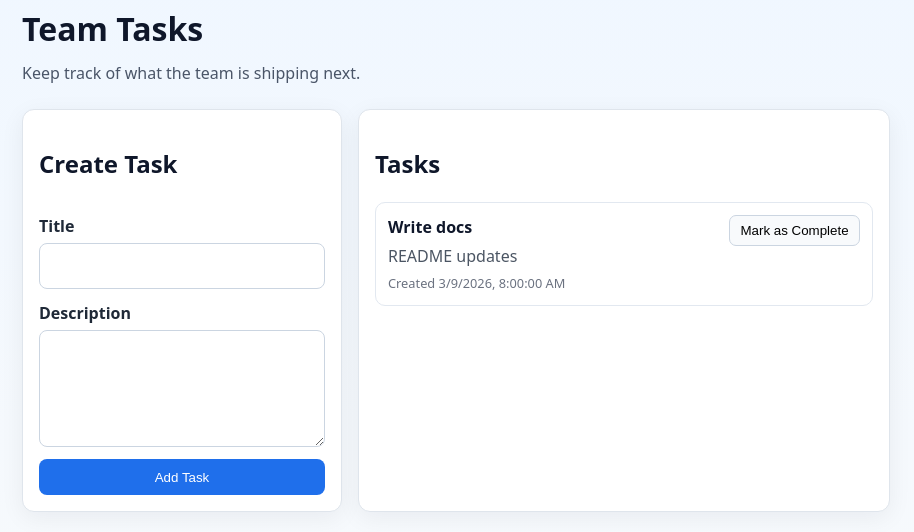
Test case: App › toggles completion status
Expected: the heading "Write docs" is shown, left=388, top=216, right=472, bottom=238
Step 1. Click the button "Mark as Complete" → [795, 230], box left=729, top=215, right=860, bottom=246
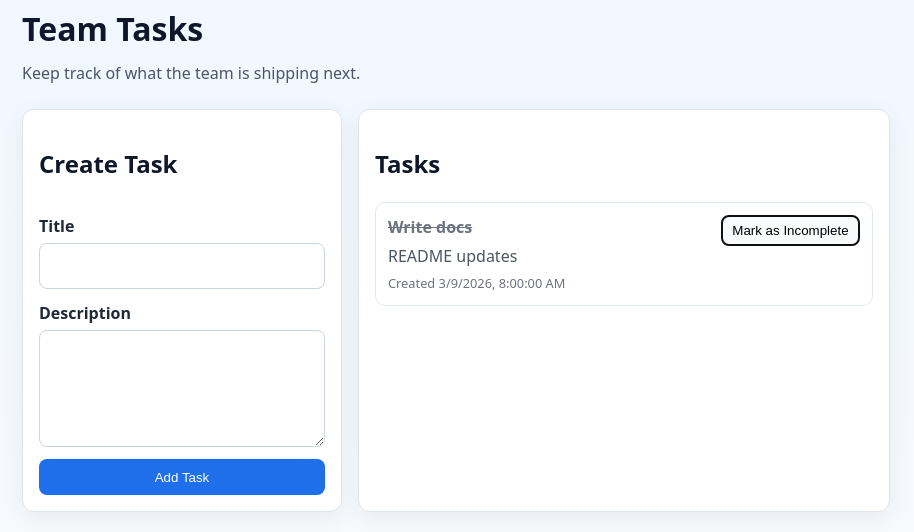
Result: the button "Mark as Incomplete" is shown at left=721, top=215, right=860, bottom=246
